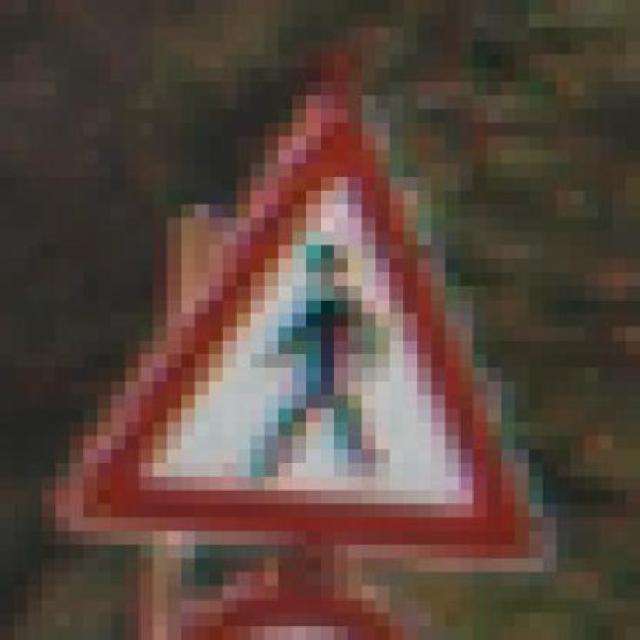Pedestrian Crossing: (56, 41, 584, 572)
